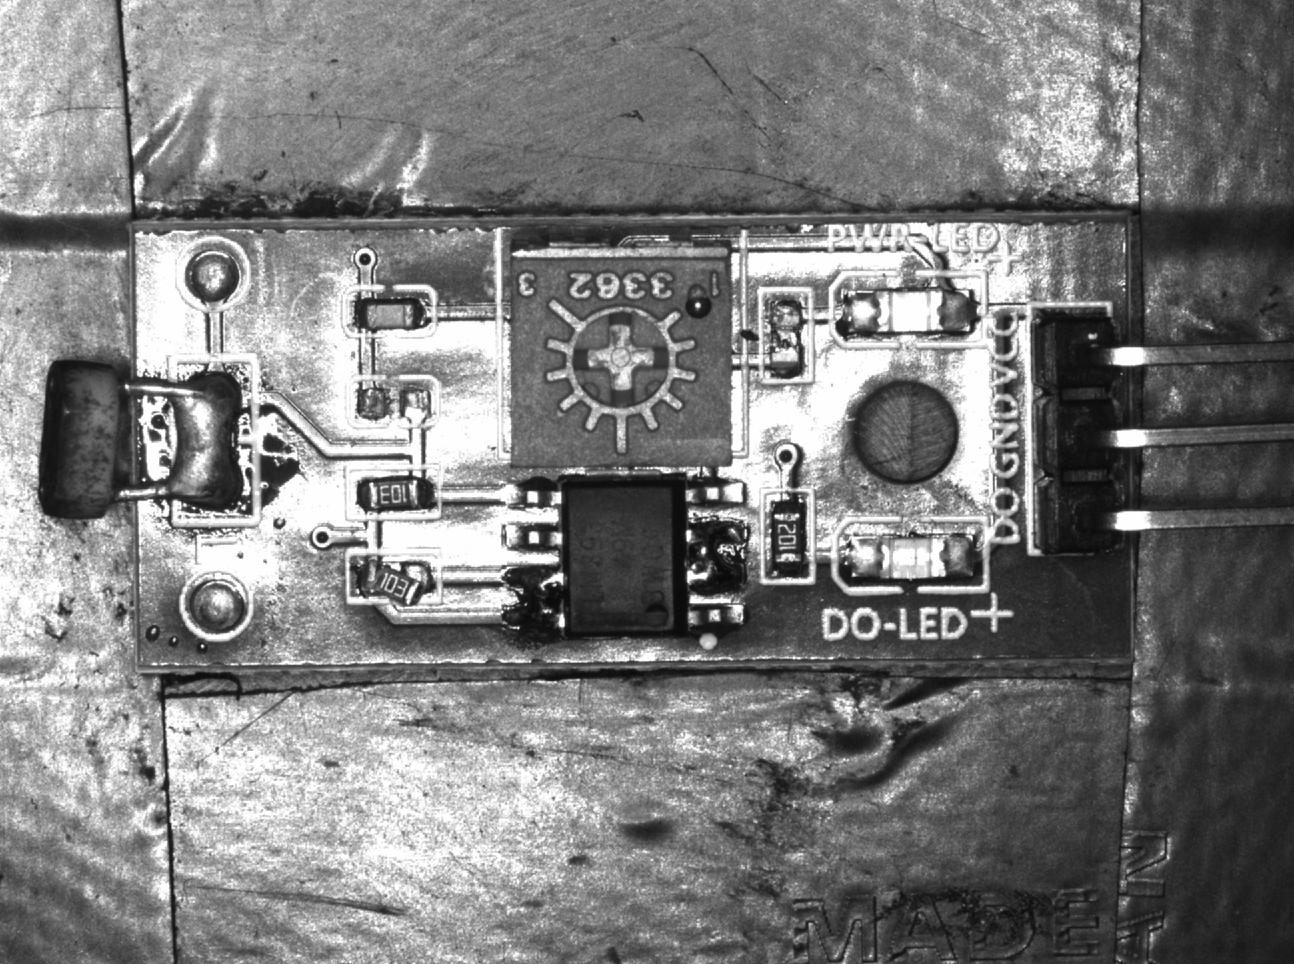bridge: (149, 364, 260, 523), (681, 513, 750, 600)
lifted: (346, 551, 441, 609), (504, 561, 563, 645)
miss: (759, 284, 814, 383), (348, 376, 433, 435)
ok: (345, 464, 441, 519), (761, 486, 814, 586), (341, 286, 435, 336)
